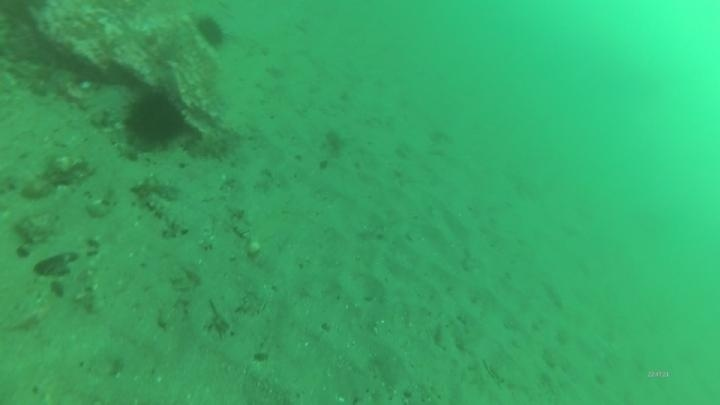echinus: (120, 85, 190, 152), (192, 13, 229, 51)
holothurian: (134, 189, 191, 241), (179, 126, 242, 163)
starfish: (129, 174, 183, 203)
